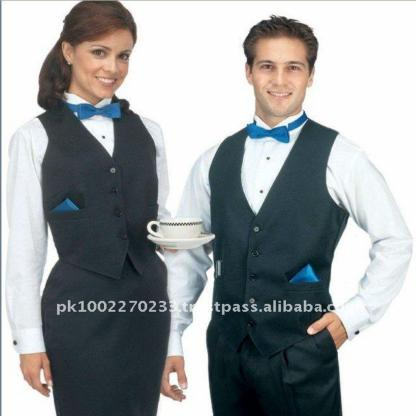face: (252, 36, 310, 116), (75, 23, 135, 99)
